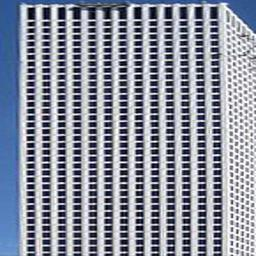building: (18, 1, 226, 256)
